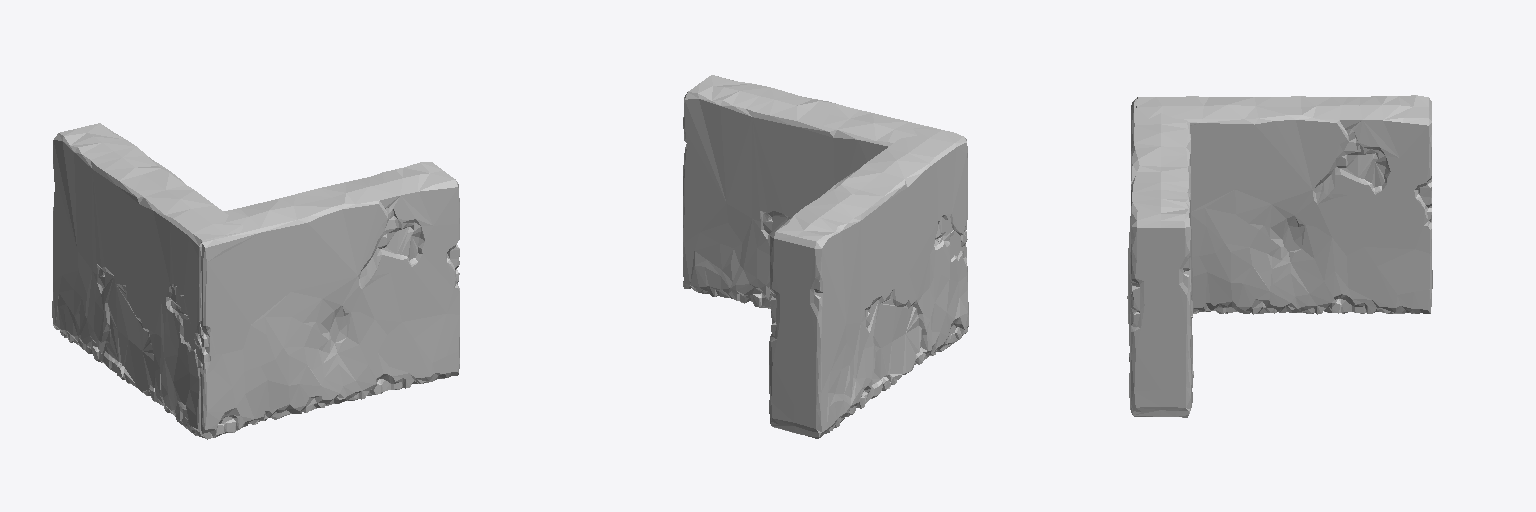
Rendered from Lwall2.obj.
3 renders of one model, left to right at view 1: azimuth 30°, elevation 25°; view 2: azimuth 150°, elevation 25°; view 3: azimuth 270°, elevation 25°, orthographic.
Parts seen in each view (by area): view 1: wall, wall.001; view 2: wall.001, wall; view 3: wall.001, wall.
Boxes of the visible parts, <box> form: wall: <box>175,162,459,439</box>; wall.001: <box>52,123,248,437</box>; wall.001: <box>769,127,968,438</box>; wall: <box>683,75,967,351</box>; wall.001: <box>1136,95,1432,314</box>; wall: <box>1127,98,1193,417</box>.
Bounding box in the file's own units: 112 × 82.47 × 113.